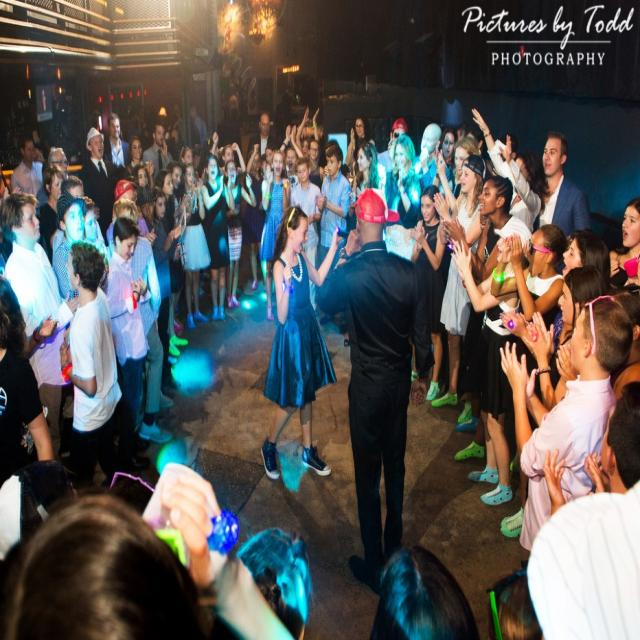body: (0, 494, 542, 640), (313, 185, 436, 602), (497, 292, 636, 556), (489, 220, 571, 541), (448, 213, 534, 508), (258, 203, 342, 483), (0, 190, 81, 460), (58, 239, 126, 497), (106, 196, 174, 445), (429, 151, 489, 426), (498, 227, 610, 372), (105, 179, 175, 409), (102, 214, 150, 462), (450, 205, 502, 433), (526, 264, 606, 412), (584, 246, 640, 440), (0, 278, 55, 468), (471, 106, 552, 235), (134, 184, 182, 396), (481, 130, 526, 332), (533, 129, 591, 276), (441, 172, 515, 282), (410, 184, 447, 402), (154, 168, 190, 360), (315, 142, 352, 328), (51, 190, 110, 304), (175, 160, 212, 330), (218, 158, 258, 312), (258, 147, 292, 324), (200, 154, 235, 323), (287, 156, 322, 311), (76, 125, 120, 244), (150, 185, 177, 376), (382, 134, 422, 262), (200, 154, 232, 299), (242, 140, 270, 293), (407, 122, 451, 208), (346, 140, 383, 232), (607, 196, 640, 294), (441, 136, 481, 216), (38, 160, 68, 266), (34, 145, 71, 221), (142, 104, 208, 145), (10, 132, 46, 202), (141, 121, 174, 186), (344, 113, 376, 176), (278, 124, 306, 191), (208, 130, 247, 178), (376, 116, 409, 171), (101, 112, 132, 166), (246, 112, 280, 158), (295, 104, 320, 159), (165, 158, 187, 206), (307, 140, 325, 193), (124, 134, 145, 178), (438, 126, 459, 170), (284, 144, 302, 194), (82, 195, 100, 241), (130, 162, 149, 190), (38, 88, 51, 120), (177, 144, 193, 167), (264, 144, 276, 165)
